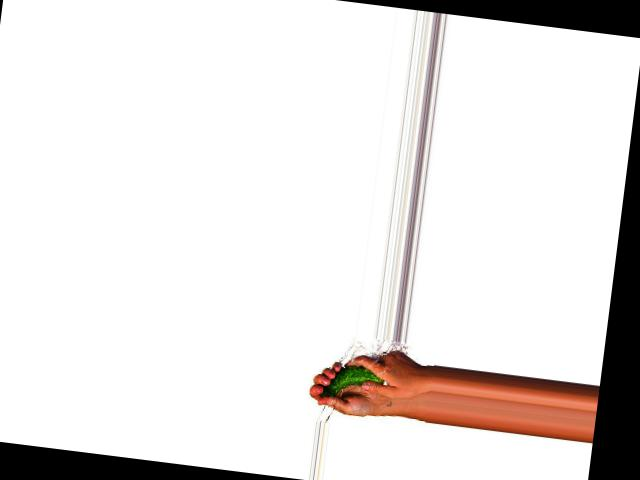cucumber: (320, 360, 386, 403)
